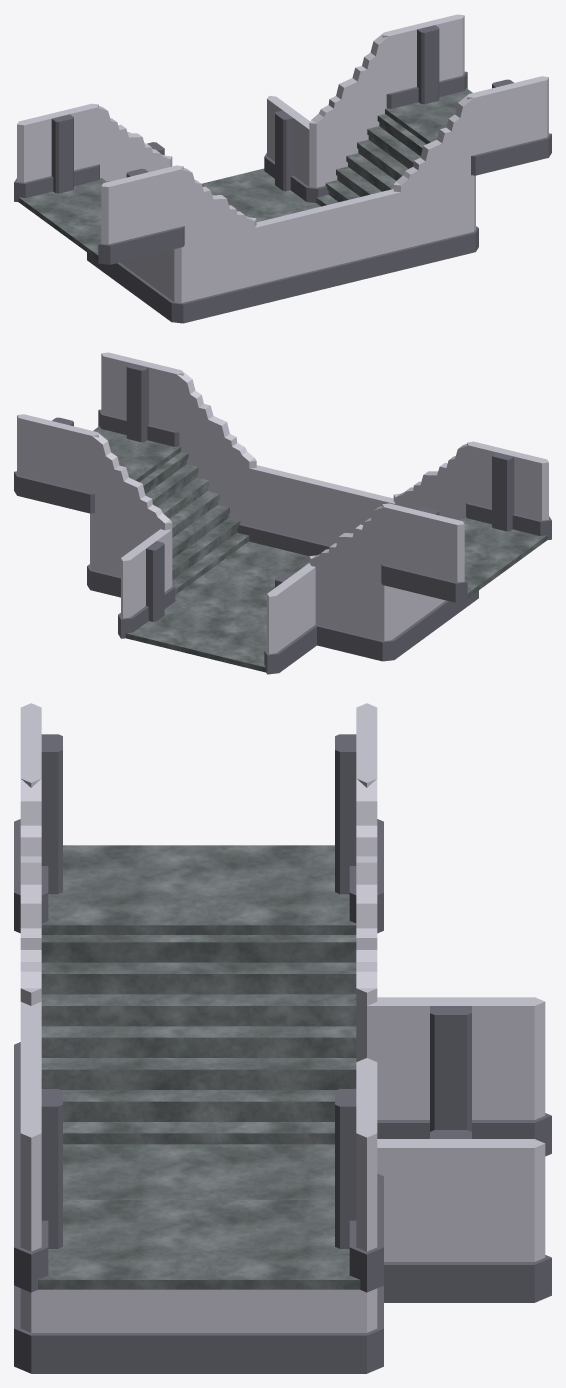
The model's file is intersection_3way_stair_02.fbx.
The picture shows the model from 3 angles, top to bottom: view 1: azimuth 30°, elevation 25°; view 2: azimuth 150°, elevation 25°; view 3: azimuth 270°, elevation 25°; orthographic projection. The views are drawn at different scales.
Parts seen in each view (by area): view 1: stairs_01_34, stairs_01_33, wall_02_40, wall_02_39, wall_02_42, wall_01_11, wall_02_43, wall_01_10, wall_02_38, floor_04_37, floor_04_35, floor_04_36 (+1 smaller); view 2: stairs_01_34, stairs_01_33, wall_02_42, wall_02_43, wall_02_40, wall_02_39, wall_01_10, floor_04_35, floor_01_0, wall_02_41, wall_02_38, floor_04_37 (+2 smaller); view 3: stairs_01_33, stairs_01_34, wall_02_38, floor_04_36, floor_04_37, wall_02_41, floor_01_0, wall_02_39, wall_02_43, wall_02_42, wall_02_40, wall_01_11.
Part boxes in pixels (x1=…): stairs_01_34: x1=306, y1=32, x2=478, y2=269; stairs_01_33: x1=87, y1=104, x2=257, y2=323; wall_02_40: x1=98, y1=165, x2=184, y2=264; wall_02_39: x1=467, y1=76, x2=551, y2=175; wall_02_42: x1=14, y1=103, x2=99, y2=202; wall_01_11: x1=253, y1=206, x2=329, y2=305; wall_02_43: x1=382, y1=14, x2=467, y2=108; wall_01_10: x1=321, y1=189, x2=403, y2=287; wall_02_38: x1=264, y1=95, x2=318, y2=202; floor_04_37: x1=18, y1=178, x2=107, y2=260; floor_04_35: x1=201, y1=168, x2=311, y2=217; floor_04_36: x1=385, y1=88, x2=472, y2=143; stairs_01_34: x1=87, y1=370, x2=256, y2=598; stairs_01_33: x1=309, y1=442, x2=478, y2=661; wall_02_42: x1=381, y1=503, x2=467, y2=602; wall_02_43: x1=14, y1=414, x2=98, y2=513; wall_02_40: x1=466, y1=441, x2=551, y2=540; wall_02_39: x1=98, y1=352, x2=183, y2=446; wall_01_10: x1=247, y1=465, x2=329, y2=556; floor_04_35: x1=125, y1=599, x2=266, y2=672; floor_01_0: x1=175, y1=542, x2=309, y2=626; wall_02_41: x1=264, y1=563, x2=318, y2=674; wall_02_38: x1=118, y1=529, x2=175, y2=638; floor_04_37: x1=458, y1=516, x2=547, y2=597; stairs_01_33: x1=14, y1=774, x2=377, y2=1148; stairs_01_34: x1=14, y1=1062, x2=383, y2=1373; wall_02_38: x1=377, y1=1130, x2=551, y2=1302; floor_04_36: x1=38, y1=1200, x2=360, y2=1289; floor_04_37: x1=41, y1=845, x2=356, y2=934; wall_02_41: x1=356, y1=997, x2=551, y2=1156; floor_01_0: x1=63, y1=1144, x2=334, y2=1199; wall_02_39: x1=14, y1=1058, x2=62, y2=1292; wall_02_43: x1=335, y1=1058, x2=383, y2=1292; wall_02_42: x1=335, y1=703, x2=383, y2=933; wall_02_40: x1=14, y1=703, x2=62, y2=933; wall_01_11: x1=14, y1=1002, x2=41, y2=1176.
Size of the model in its own units: 62.05 by 20 by 32.05.
